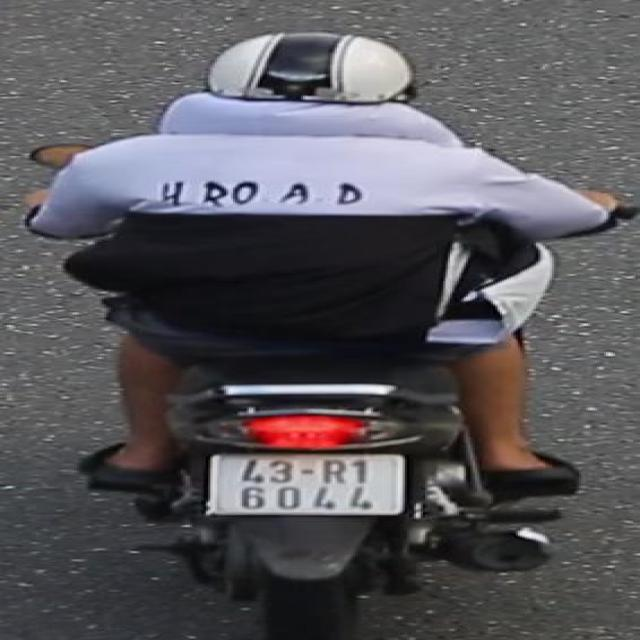LP: (202, 447, 424, 529)
helmet: (206, 30, 418, 121)
